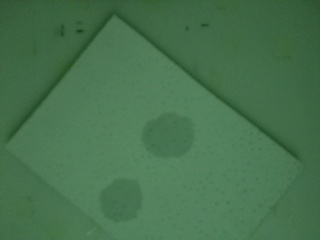Water_detected: (153, 124, 192, 163), (115, 179, 142, 214)
